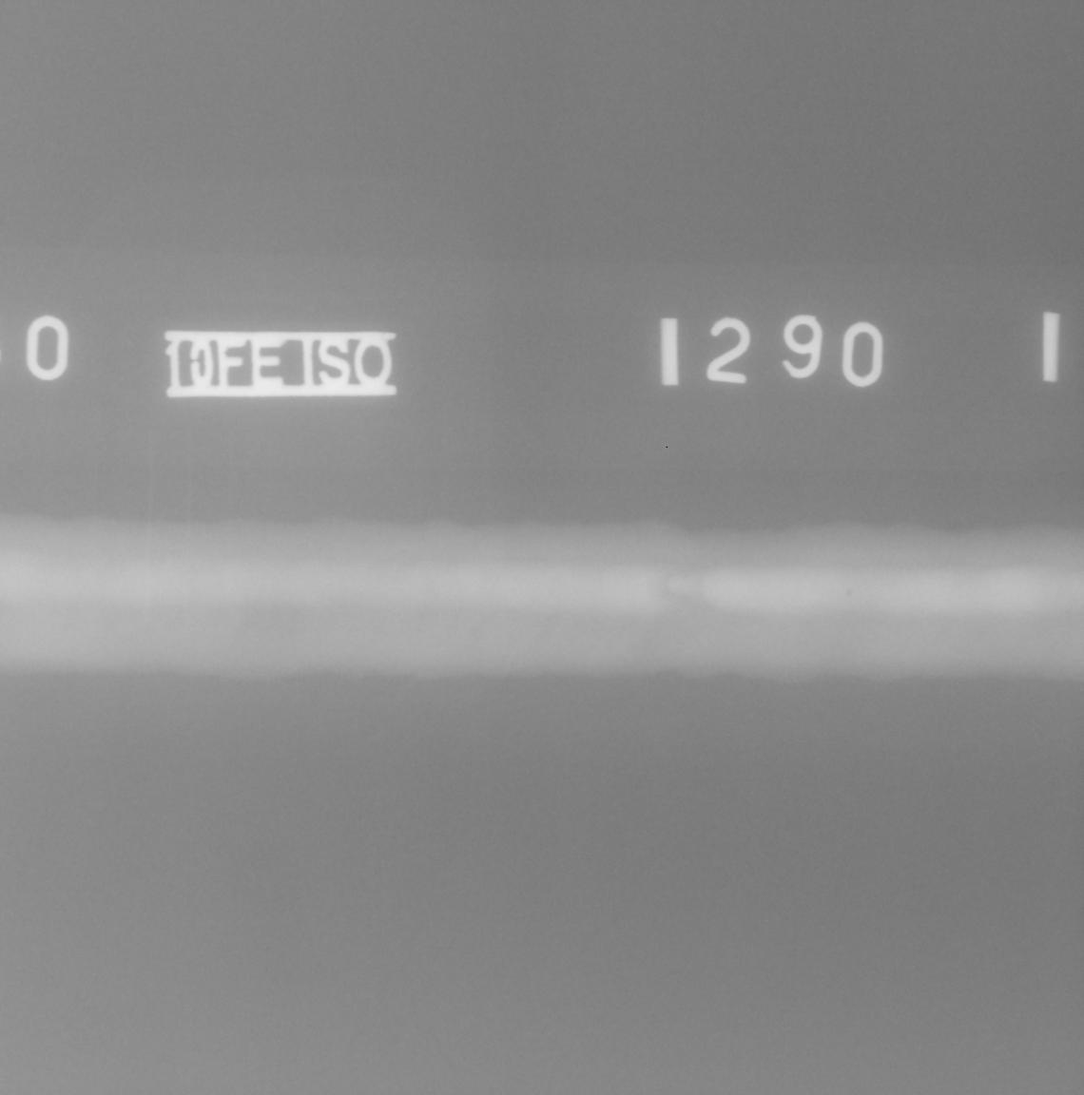Pore/Porosity: (846, 588, 853, 596)
